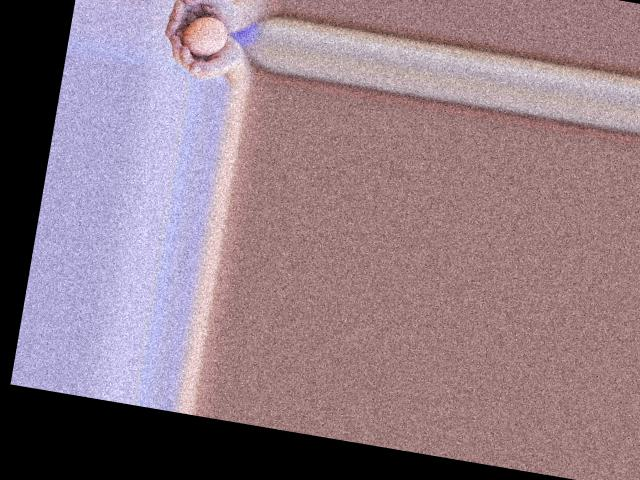egg: (180, 12, 230, 59)
